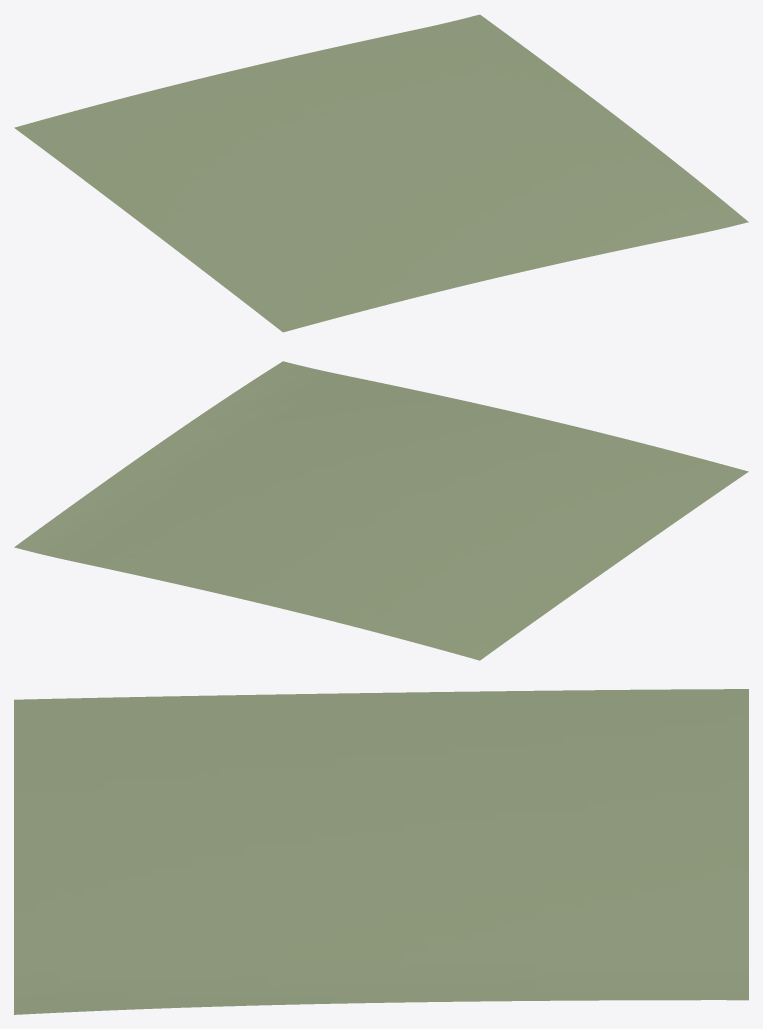
Rendered from desert-21-7.glb.
The picture shows the model from 3 angles, top to bottom: view 1: azimuth 30°, elevation 25°; view 2: azimuth 150°, elevation 25°; view 3: azimuth 270°, elevation 25°; orthographic projection. The views are drawn at different scales.
Visible parts, largest first — view 1: desert-21-7; view 2: desert-21-7; view 3: desert-21-7.
Boxes of the visible parts, x1,y1,x2,y2 form: desert-21-7: (14,14,748,332); desert-21-7: (14,361,748,660); desert-21-7: (14,689,748,1014).
Size of the model in its own units: 512 by 15.7 by 512.
